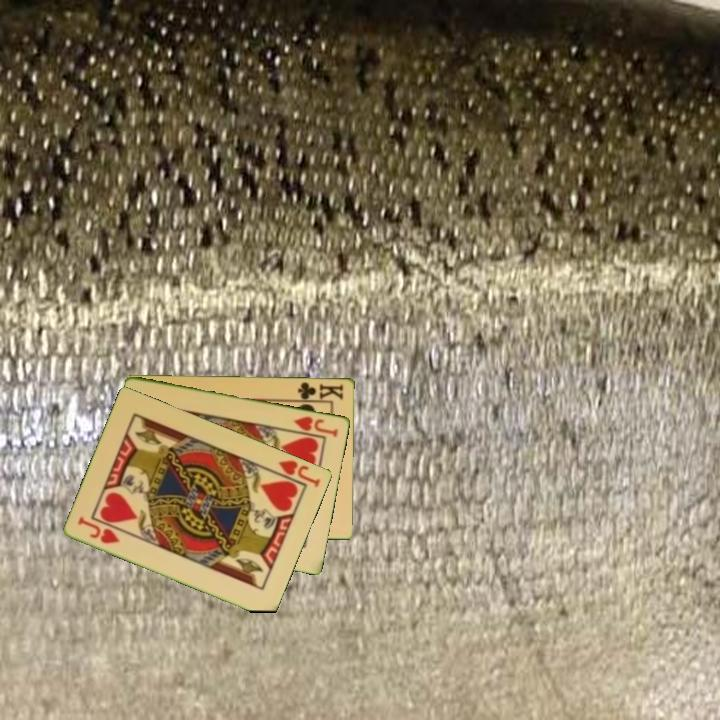Jh: (275, 456, 323, 490), (75, 514, 123, 547), (290, 412, 341, 440)
Kc: (292, 379, 346, 403)
